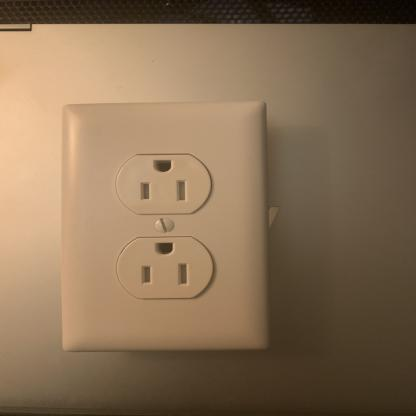OUTLET: (61, 100, 270, 355)
